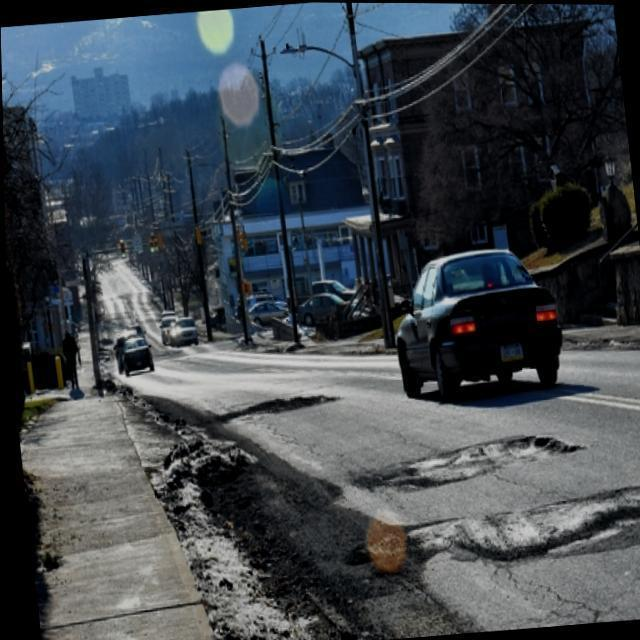Pothole: (447, 485, 640, 563), (366, 436, 564, 489), (217, 388, 341, 428)
